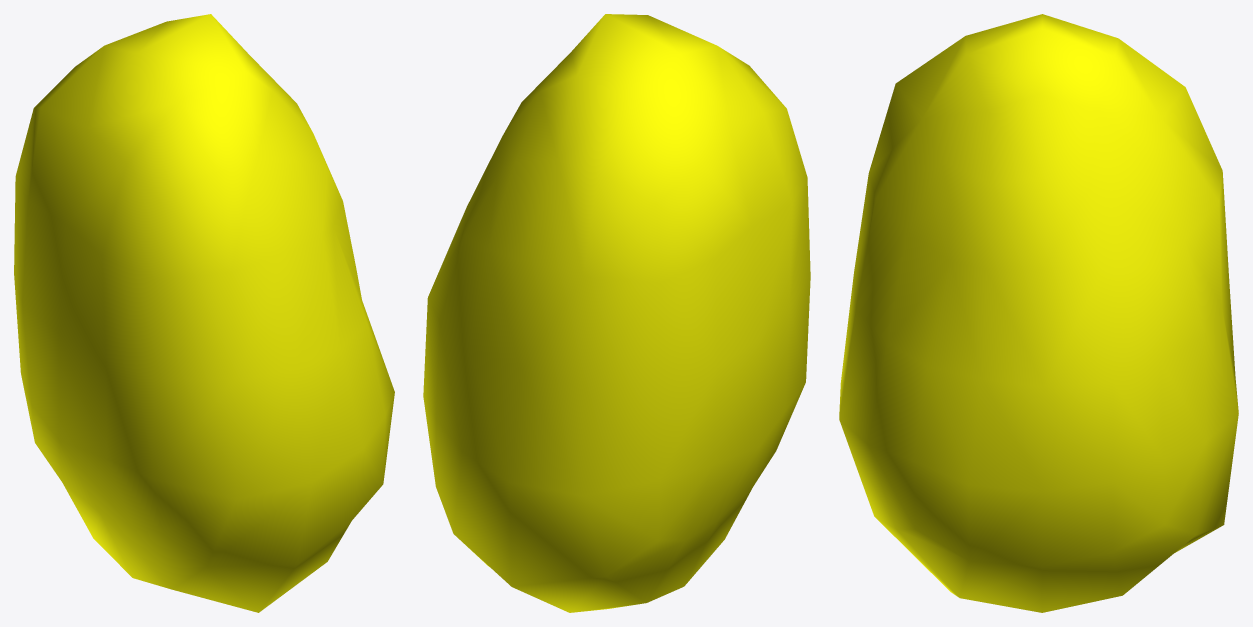
Rendered from Props_Rocks_Rock_4_Rock4_Mid.glb.
3 renders of one model, left to right at view 1: azimuth 30°, elevation 25°; view 2: azimuth 150°, elevation 25°; view 3: azimuth 270°, elevation 25°, orthographic.
Parts seen in each view (by area): view 1: Rock4_Mid; view 2: Rock4_Mid; view 3: Rock4_Mid.
Part boxes in pixels (<box>): Rock4_Mid: <box>14,14,394,612</box>; Rock4_Mid: <box>423,14,810,612</box>; Rock4_Mid: <box>839,14,1238,612</box>.
Bounding box in the file's own units: 1.47 × 2.69 × 1.68.
Materials: 1 (1 with a texture image).
